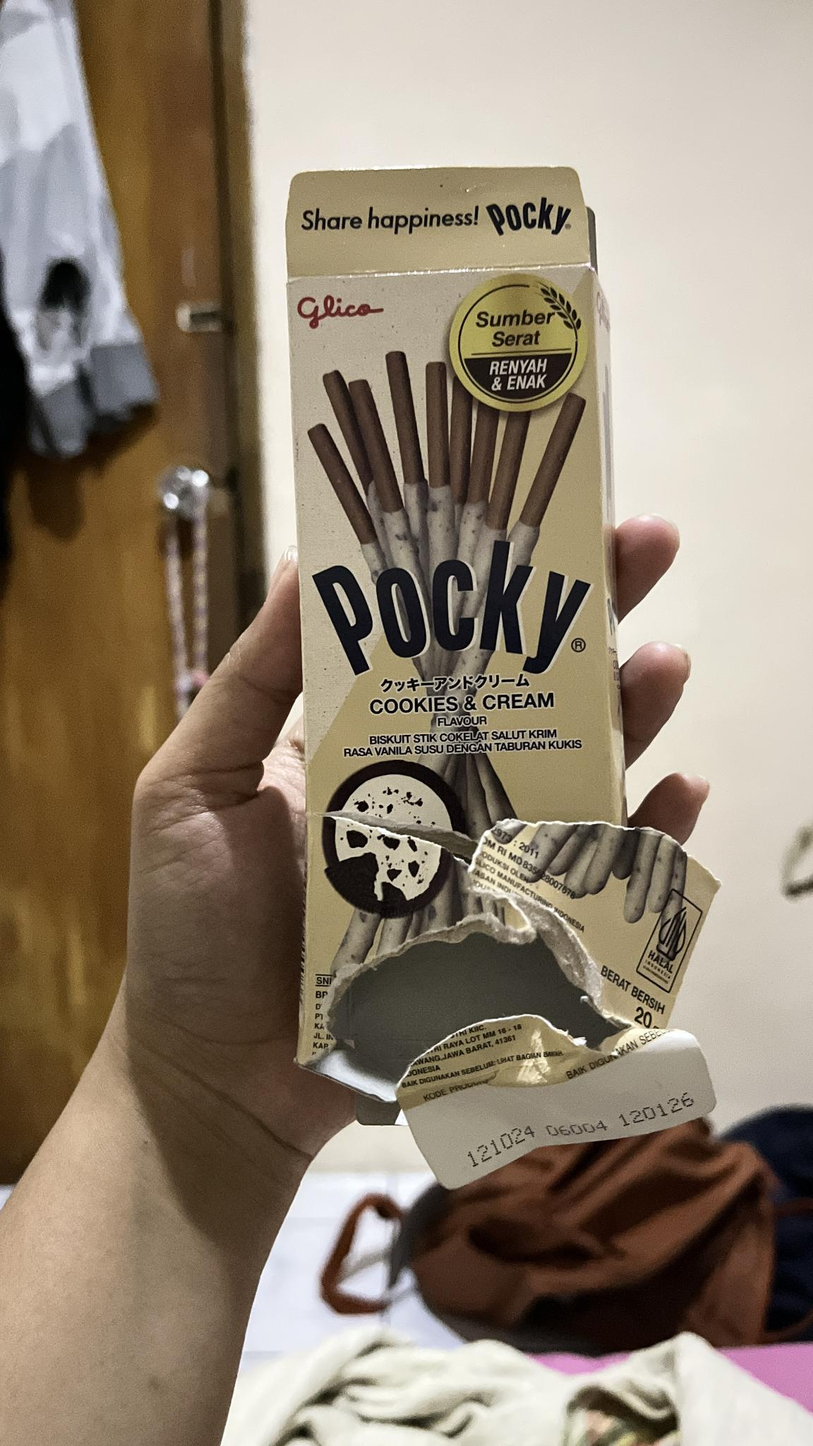Kertas: (287, 269, 627, 1065)
